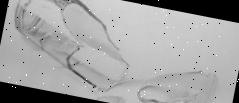glass: (2, 0, 141, 95)
